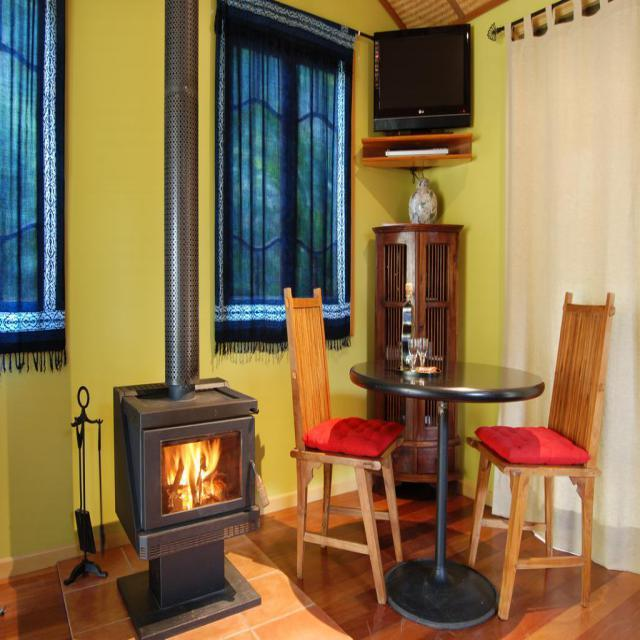Fire: (112, 371, 256, 636)
